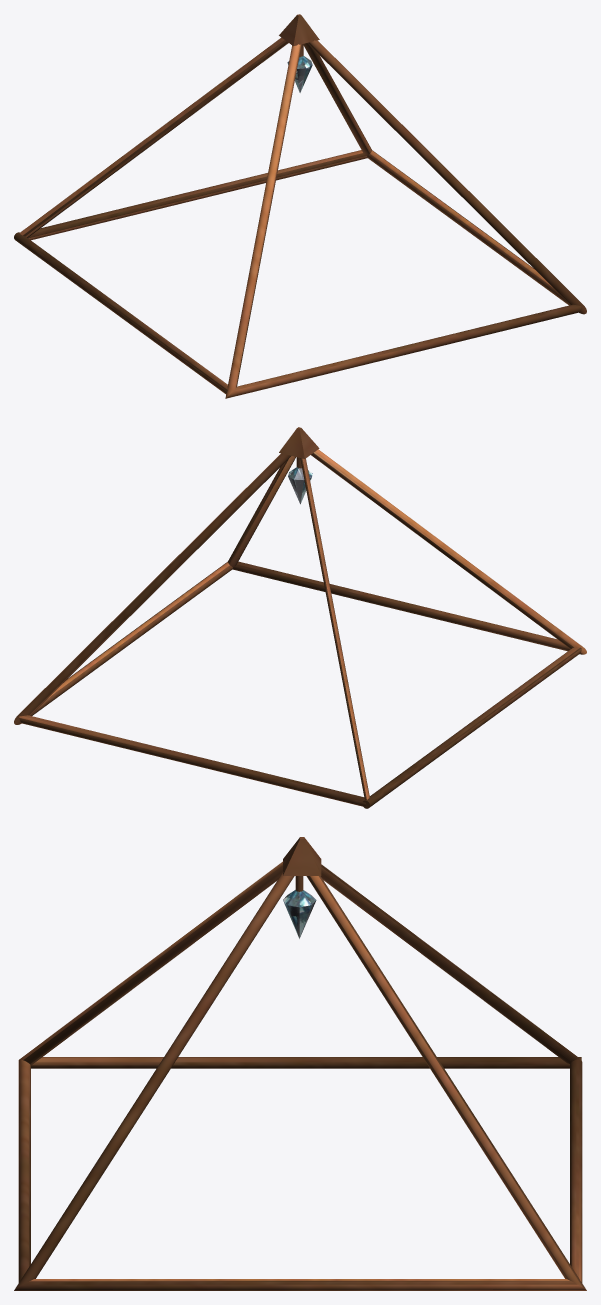
3 renders of one model, top to bottom at view 1: azimuth 30°, elevation 25°; view 2: azimuth 150°, elevation 25°; view 3: azimuth 270°, elevation 25°, orthographic. The views are drawn at different scales.
Visible parts, largest first — view 1: Material2; view 2: Material2; view 3: Material2 (×2).
Part boxes in pixels (x1,y1,x2,y2): Material2: (14,14,586,398); Material2: (14,427,586,808); Material2 (×2): (14,837,586,1290).
Size of the model in its own units: 389 by 270 by 411.
2 materials, 2 textured.
